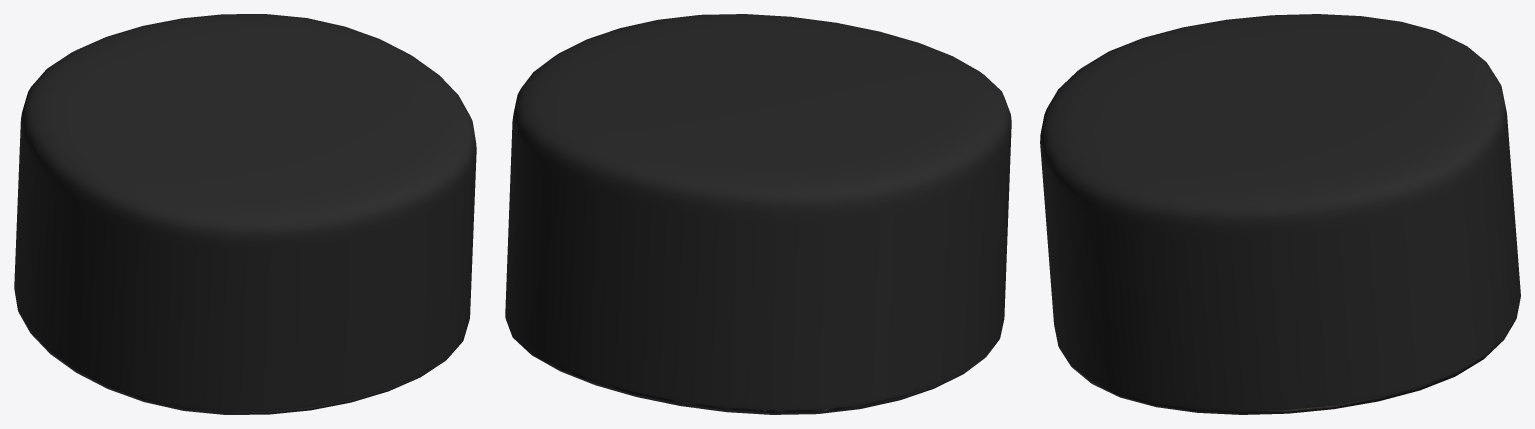
The model's file is wheel.glb.
3 renders of one model, left to right at view 1: azimuth 30°, elevation 25°; view 2: azimuth 150°, elevation 25°; view 3: azimuth 270°, elevation 25°, orthographic. The views are drawn at different scales.
Visible parts, largest first — view 1: Chevrolet.Wheel.Bk.L; view 2: Chevrolet.Wheel.Bk.L; view 3: Chevrolet.Wheel.Bk.L.
Part boxes in pixels (<box>): Chevrolet.Wheel.Bk.L: <box>14,14,476,414</box>; Chevrolet.Wheel.Bk.L: <box>505,14,1011,414</box>; Chevrolet.Wheel.Bk.L: <box>1040,14,1520,414</box>.
Size of the model in its own units: 0.9078 by 0.5304 by 0.9326.
1 material, 1 textured.
